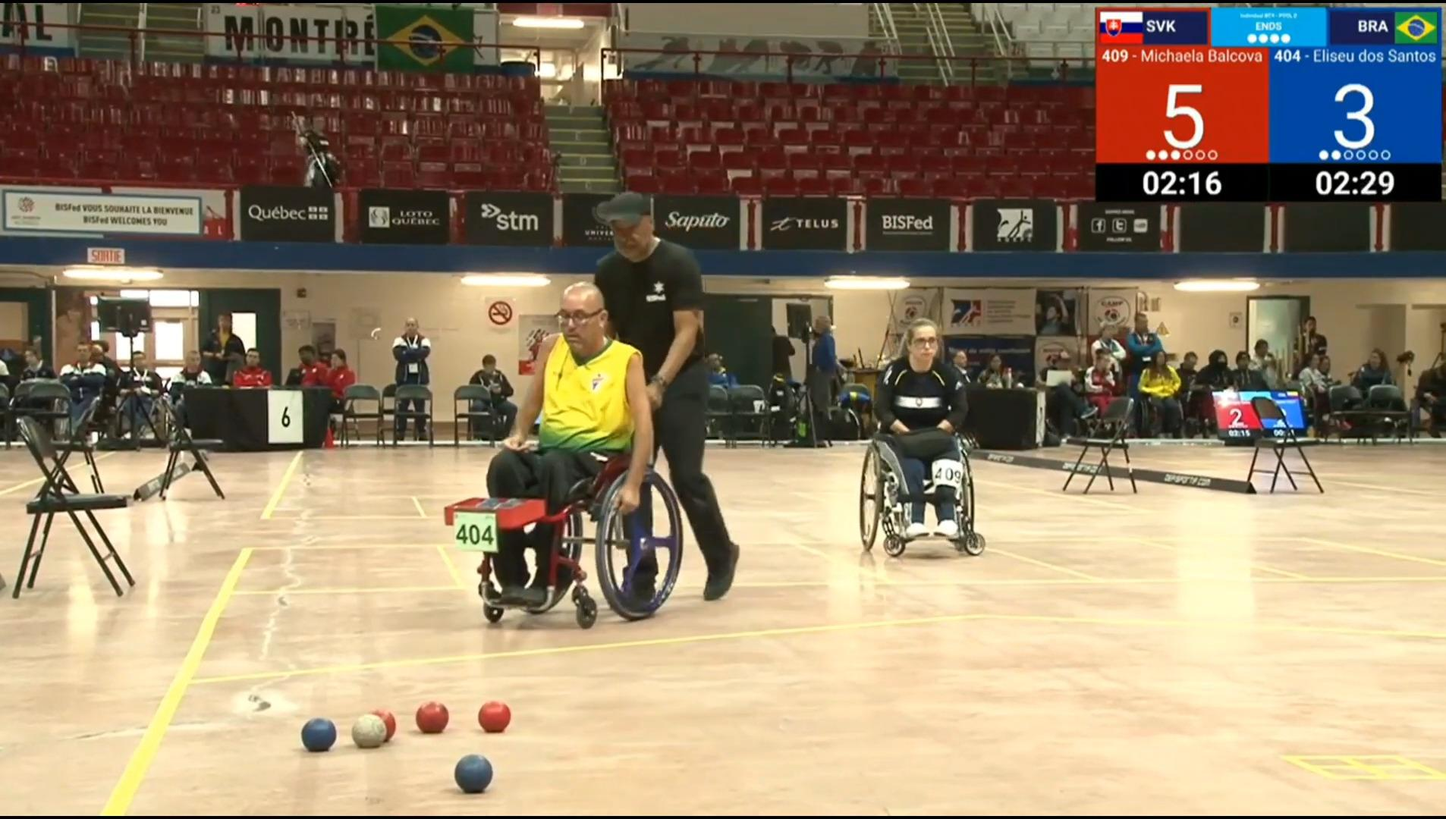blue_ball: (456, 755, 491, 791), (302, 718, 335, 751)
red_ball: (417, 701, 449, 731), (479, 702, 510, 731), (375, 709, 395, 740)
white_ball: (352, 716, 387, 749)
